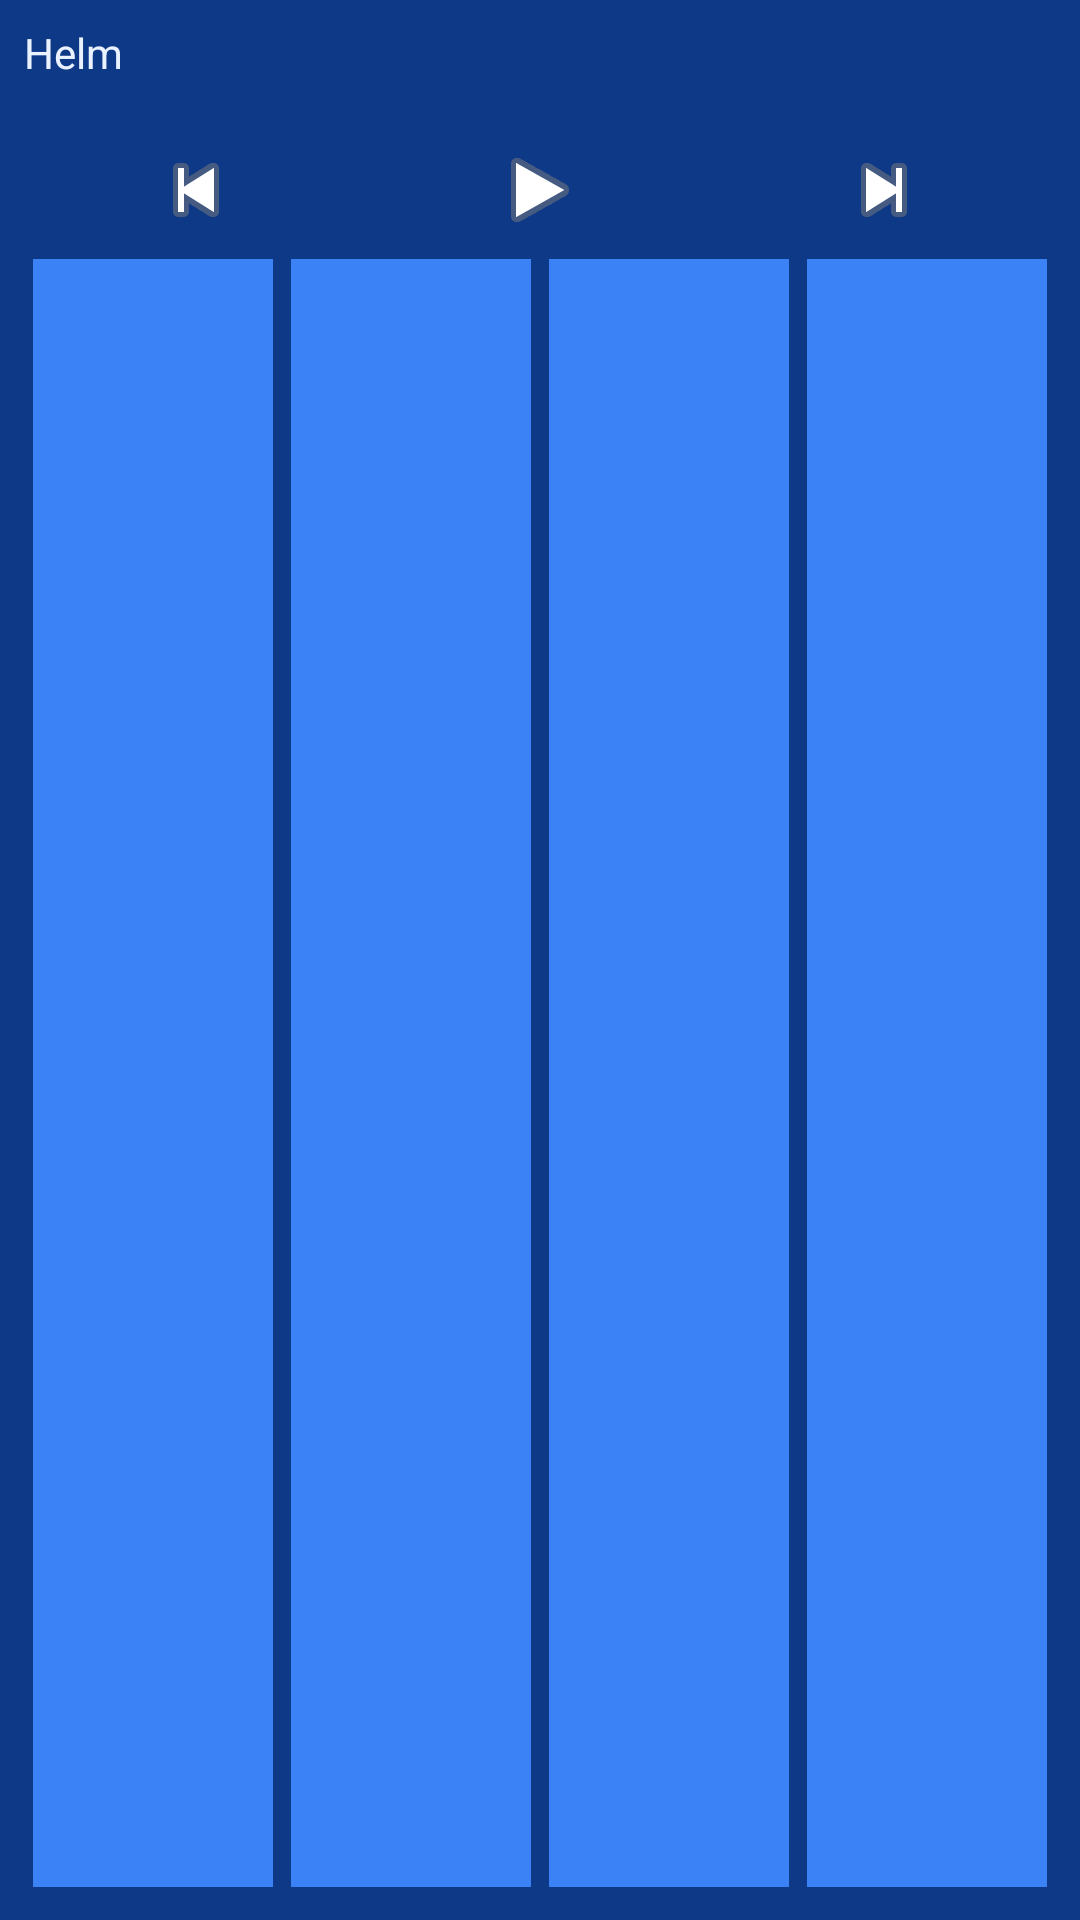

Screen size 1080×1920. Icon name, then its center in pixels as (x=x, y=y):
Next: (x=884, y=190)
Play or pause: (x=540, y=190)
Previous: (x=196, y=190)
